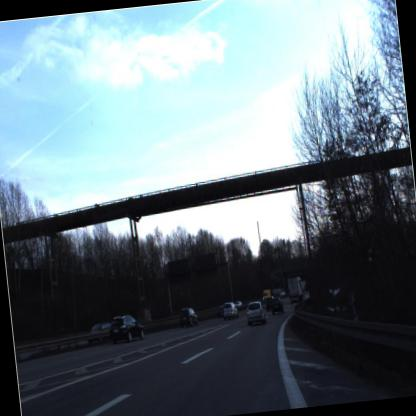other: (296, 276, 308, 294)
